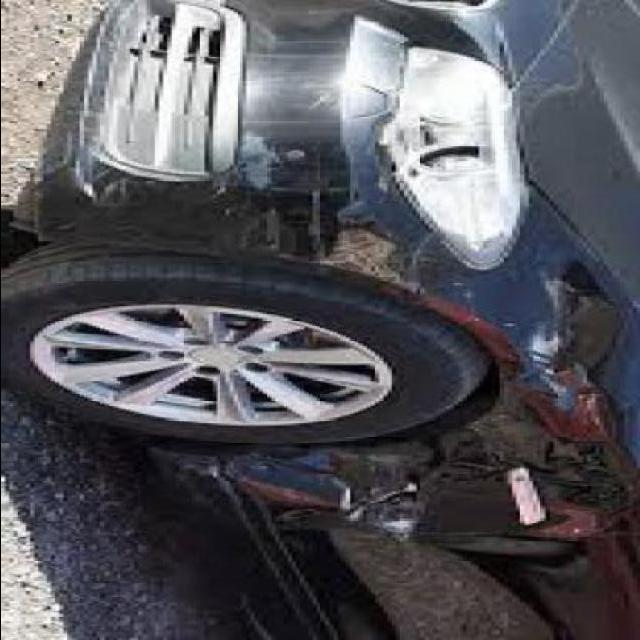Headlight-Damage: (397, 100, 505, 182)
fender-dent: (230, 447, 459, 548), (527, 252, 635, 454)
